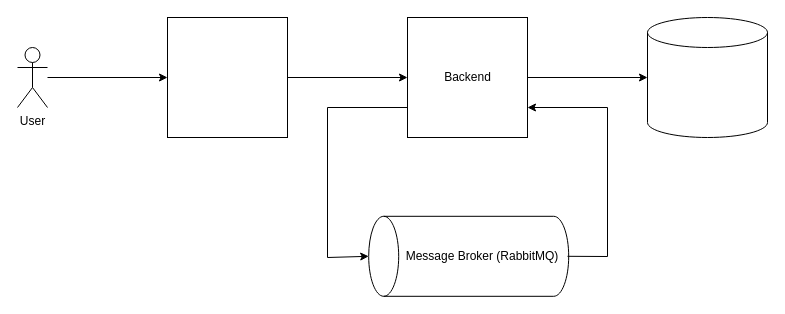
Some shapes in this 785 by 314 pixel diagram are drawn without their labels. Here are the shapes that lost their labels. From the top down, the centre of each, then its label:
the point at 227,77: Frontend
the point at 707,77: DB
